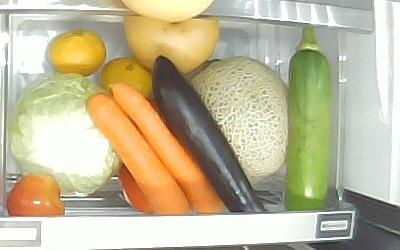cabbage: (8, 72, 127, 197)
carrot: (109, 82, 225, 214), (85, 92, 191, 215)
eggplant: (153, 54, 268, 212)
melon: (189, 55, 288, 189)
pear: (123, 15, 221, 77)
prune: (6, 173, 63, 217)
tangerine: (46, 29, 108, 77), (98, 57, 156, 99)
tomato: (119, 162, 152, 213)
zucchini: (287, 25, 331, 210)
